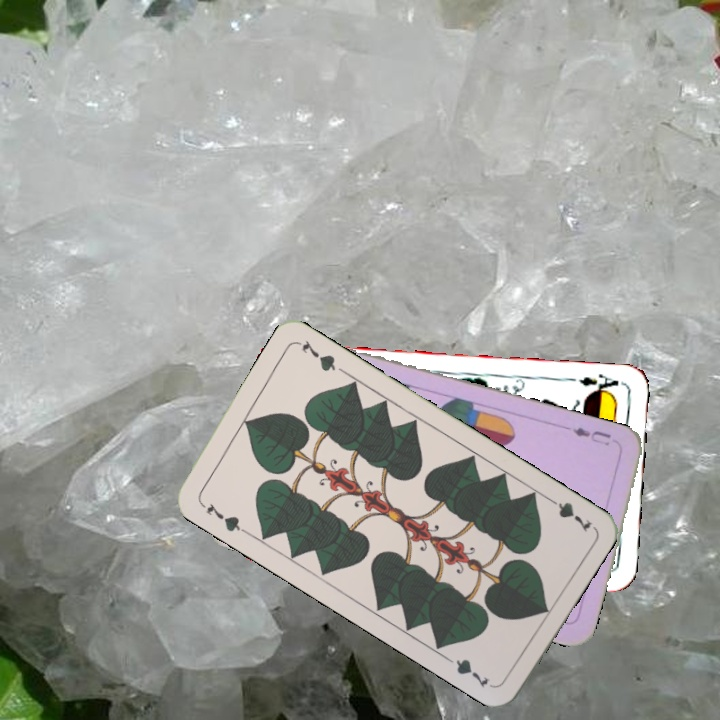EA: (575, 369, 624, 398)
EU: (568, 422, 614, 448)
G7: (542, 492, 595, 535), (196, 498, 249, 536)
